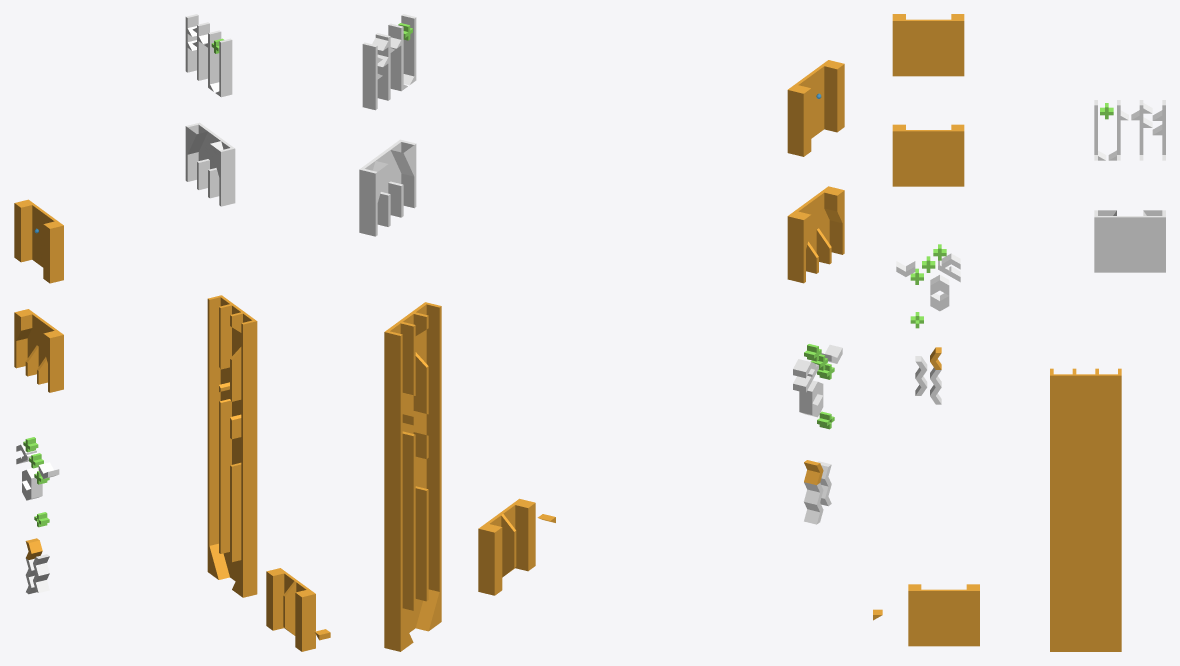
Rendered from TRACK2_d.fbx.
The picture shows the model from 3 angles, left to right: view 1: azimuth 30°, elevation 25°; view 2: azimuth 150°, elevation 25°; view 3: azimuth 270°, elevation 25°; orthographic projection. The views are drawn at different scales.
Parts seen in each view (by area): view 1: Group49, Group63, Group37, Group74, Group46, Group44, Group36, Group76, Group48, Group80, Group20, Group57 (+17 smaller); view 2: Group49, Group63, Group74, Group37, Group46, Group44, Group36, Group76, Group84, Group48, Group56, Group108 (+14 smaller); view 3: Group36, Group42, Group76, Group48, Group78, Group23, Group51, Group94, Group103, Group63.
Boxes of the visible parts, bbox=[...] form: Group49: bbox=[185, 123, 232, 206]; Group63: bbox=[185, 14, 232, 97]; Group37: bbox=[14, 200, 60, 283]; Group74: bbox=[14, 309, 60, 392]; Group46: bbox=[266, 568, 284, 630]; Group44: bbox=[295, 590, 312, 651]; Group36: bbox=[26, 199, 63, 280]; Group76: bbox=[26, 309, 63, 389]; Group48: bbox=[197, 122, 235, 203]; Group80: bbox=[241, 320, 254, 378]; Group20: bbox=[241, 431, 254, 488]; Group57: bbox=[241, 540, 254, 597]; Group49: bbox=[362, 140, 416, 236]; Group63: bbox=[362, 14, 416, 110]; Group74: bbox=[791, 187, 844, 283]; Group37: bbox=[791, 61, 844, 156]; Group46: bbox=[481, 524, 502, 595]; Group44: bbox=[515, 499, 535, 571]; Group36: bbox=[787, 60, 831, 153]; Group76: bbox=[787, 186, 831, 279]; Group84: bbox=[387, 331, 402, 398]; Group48: bbox=[359, 139, 402, 233]; Group56: bbox=[387, 586, 402, 651]; Group108: bbox=[387, 522, 402, 588]; Group36: bbox=[892, 19, 964, 76]; Group42: bbox=[908, 589, 979, 646]; Group76: bbox=[892, 130, 964, 186]; Group48: bbox=[1094, 216, 1165, 272]; Group78: bbox=[1050, 374, 1121, 430]; Group23: bbox=[1050, 486, 1121, 541]; Group51: bbox=[1050, 596, 1121, 651]; Group94: bbox=[1050, 431, 1121, 486]; Group103: bbox=[1050, 541, 1121, 596]; Group63: bbox=[1094, 100, 1165, 160].
Size of the model in its own units: 7004 by 12660 by 6160.
